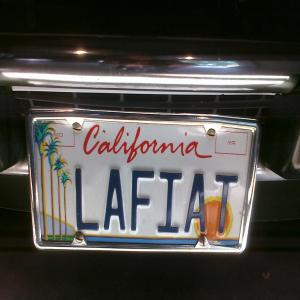Vehicle-registration-plate: (26, 109, 263, 256)
